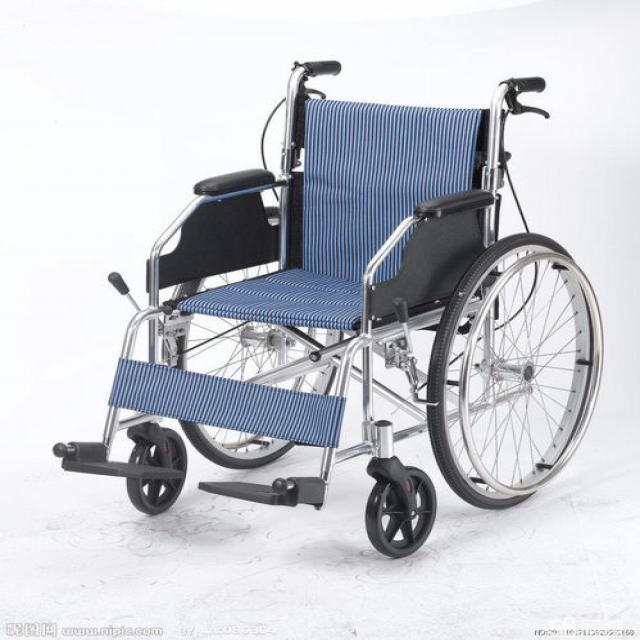wheelchair: (54, 43, 621, 557)
